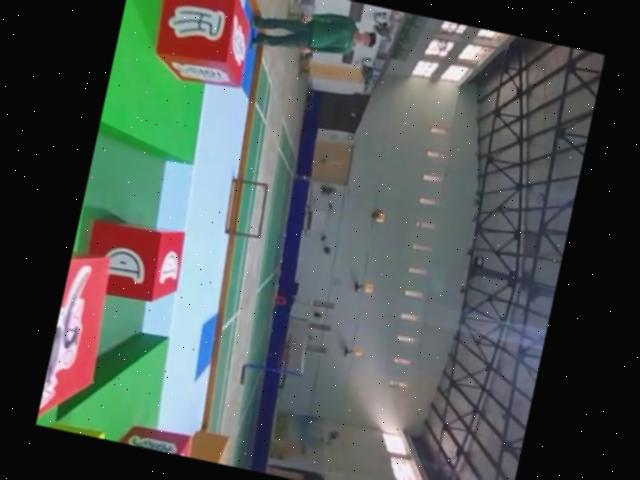R1: (35, 248, 122, 435)
R2 Fake: (144, 0, 259, 89), (109, 420, 197, 458)
R2 Real: (78, 213, 189, 308)
